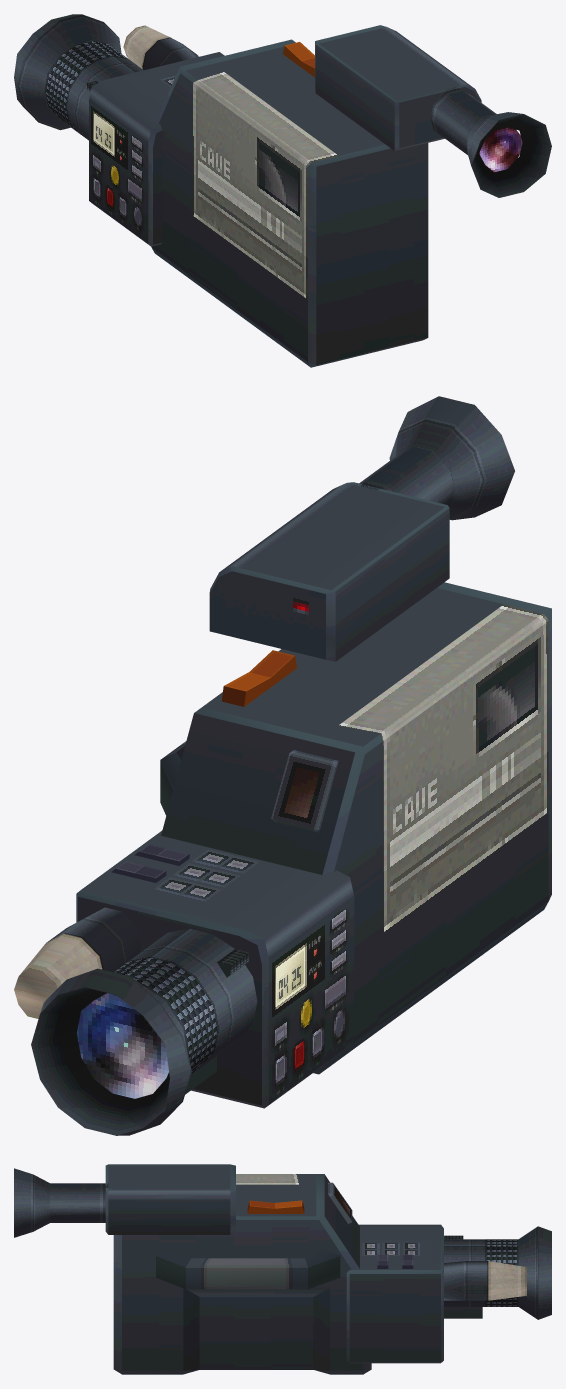
File: ps2_save-icons_touge3-replaydata.glb
The picture shows the model from 3 angles, top to bottom: view 1: azimuth 30°, elevation 25°; view 2: azimuth 150°, elevation 25°; view 3: azimuth 270°, elevation 25°; orthographic projection. The views are drawn at different scales.
Visible parts, largest first — view 1: icon.ico; view 2: icon.ico; view 3: icon.ico.
Boxes of the visible parts, x1=… form: icon.ico: x1=14, y1=14, x2=551, y2=367; icon.ico: x1=14, y1=396, x2=551, y2=1135; icon.ico: x1=14, y1=1164, x2=551, y2=1374.
Size of the model in its own units: 1.57 by 2.07 by 4.85.
1 material, 1 textured.
